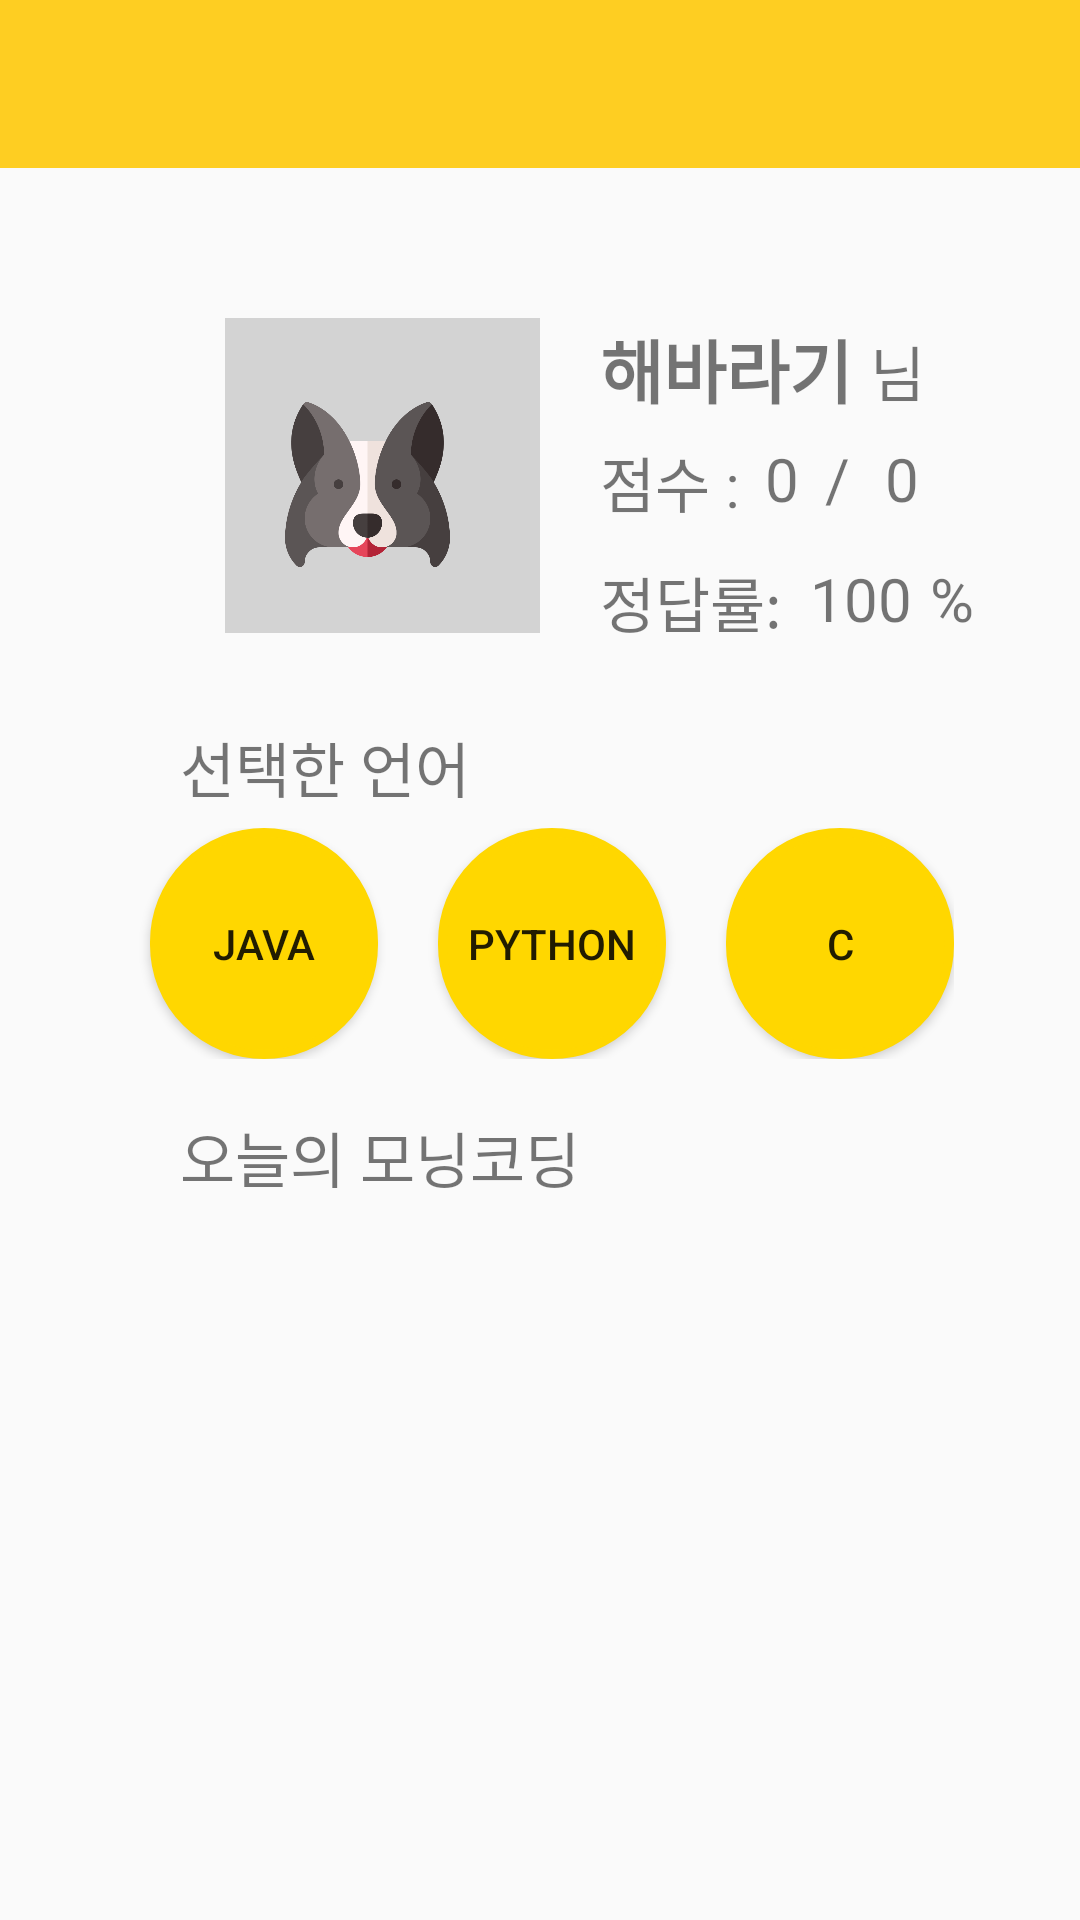

Locate icon controls on the screen. Image size 1080*1920, boxes as region(x1, y1, x2, y2).
animal: region(285, 402, 450, 567)
